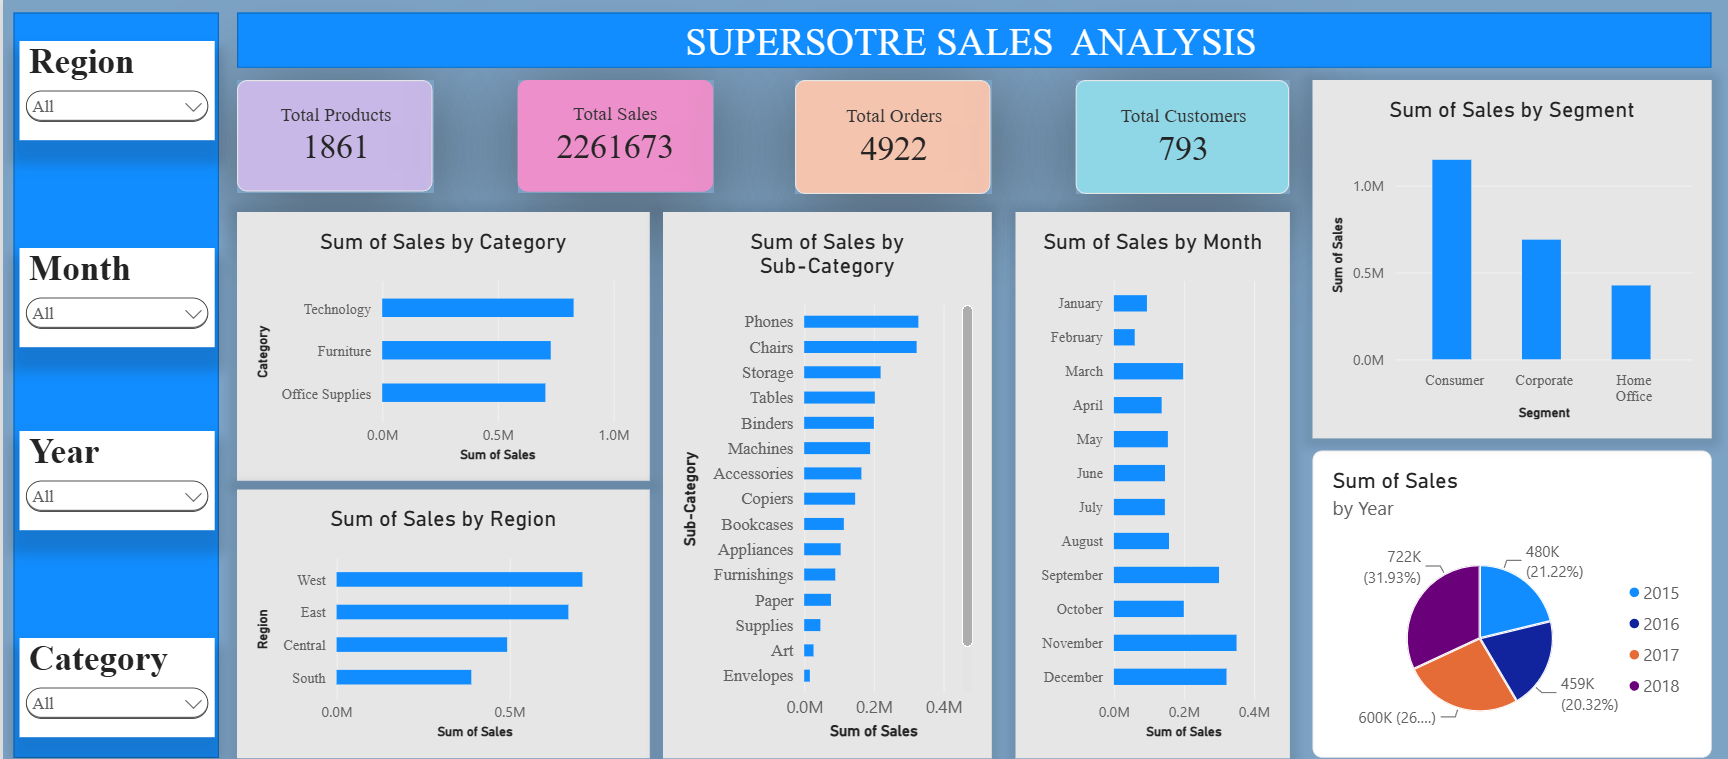

This screenshot's page, from the dashboard's own definition file:
{"tool":"powerbi","page":{"name":"Page 1","canvas":[3840,2160],"ordinal":0},"visuals":[{"type":"cardVisual","fields":{"Data":["train.Total Products"]},"box":[195,67.5,163.8,93.8],"z":0},{"type":"cardVisual","fields":{"Data":["train.Total Sales"]},"box":[428.8,67.5,163.8,93.8],"z":1000},{"type":"cardVisual","fields":{"Data":["train.Total Orders"]},"box":[660,67.5,163.8,95],"z":2000},{"type":"cardVisual","fields":{"Data":["train.Total Customers"]},"box":[893.8,67.5,178.8,95],"z":3000},{"type":"shape","box":[8.8,11.2,171.2,621.2],"z":4000},{"type":"shape","box":[195,11.2,1228.8,46.2],"z":5000},{"type":"barChart","fields":{"Category":["train.Category"],"Y":["Sum(train.Sales)"]},"box":[195,177.5,343.8,223.8],"z":6000},{"type":"barChart","fields":{"Y":["Sum(train.Sales)"],"Category":["train.Region"]},"box":[195,408.8,343.8,223.8],"z":7000},{"type":"barChart","fields":{"Y":["Sum(train.Sales)"],"Category":["train.Sub-Category"]},"box":[550,177.5,273.8,455],"z":8000},{"type":"textbox","box":[568.8,17.5,508.8,40],"z":9000},{"type":"barChart","fields":{"Y":["Sum(train.Sales)"],"Category":["train.Order Date.Variation.Date Hierarchy.Month"]},"box":[843.8,177.5,228.8,455],"z":10000},{"type":"pieChart","fields":{"Category":["train.Order Date.Variation.Date Hierarchy.Year"],"Y":["Sum(train.Sales)"]},"box":[1091.2,376.2,332.5,256.2],"z":11000},{"type":"clusteredColumnChart","fields":{"Y":["Sum(train.Sales)"],"Category":["train.Segment"]},"box":[1091.2,67.5,332.5,298.8],"z":12000},{"type":"slicer","fields":{"Values":["train.Region"]},"box":[13.8,35,162.5,82.5],"z":13000},{"type":"slicer","fields":{"Values":["train.Order Date.Variation.Date Hierarchy.Year"]},"box":[13.8,360,162.5,82.5],"z":14000},{"type":"slicer","fields":{"Values":["train.Order Date.Variation.Date Hierarchy.Month"]},"box":[13.8,207.5,162.5,82.5],"z":15000},{"type":"slicer","fields":{"Values":["train.Category"]},"box":[13.8,532.5,162.5,82.5],"z":16000}]}

Visuals, with their boxes on the page's 3840x2160 design canvas (x1, y1, x2, y2). These are canvas units, not pixel positions in the 1728x759 screenshot, which may show the page scaled, cropped or inside an application window:
cardVisual - train.Total Products: {"left": 195, "top": 68, "right": 359, "bottom": 161}
cardVisual - train.Total Sales: {"left": 429, "top": 68, "right": 593, "bottom": 161}
cardVisual - train.Total Orders: {"left": 660, "top": 68, "right": 824, "bottom": 162}
cardVisual - train.Total Customers: {"left": 894, "top": 68, "right": 1073, "bottom": 162}
shape: {"left": 9, "top": 11, "right": 180, "bottom": 632}
shape: {"left": 195, "top": 11, "right": 1424, "bottom": 57}
barChart - train.Category x Sum(train.Sales): {"left": 195, "top": 178, "right": 539, "bottom": 401}
barChart - Sum(train.Sales) x train.Region: {"left": 195, "top": 409, "right": 539, "bottom": 633}
barChart - Sum(train.Sales) x train.Sub-Category: {"left": 550, "top": 178, "right": 824, "bottom": 632}
textbox: {"left": 569, "top": 18, "right": 1078, "bottom": 58}
barChart - Sum(train.Sales) x train.Order Date.Variation.Date Hierarchy.Month: {"left": 844, "top": 178, "right": 1073, "bottom": 632}
pieChart - train.Order Date.Variation.Date Hierarchy.Year x Sum(train.Sales): {"left": 1091, "top": 376, "right": 1424, "bottom": 632}
clusteredColumnChart - Sum(train.Sales) x train.Segment: {"left": 1091, "top": 68, "right": 1424, "bottom": 366}
slicer - train.Region: {"left": 14, "top": 35, "right": 176, "bottom": 118}
slicer - train.Order Date.Variation.Date Hierarchy.Year: {"left": 14, "top": 360, "right": 176, "bottom": 442}
slicer - train.Order Date.Variation.Date Hierarchy.Month: {"left": 14, "top": 208, "right": 176, "bottom": 290}
slicer - train.Category: {"left": 14, "top": 532, "right": 176, "bottom": 615}
